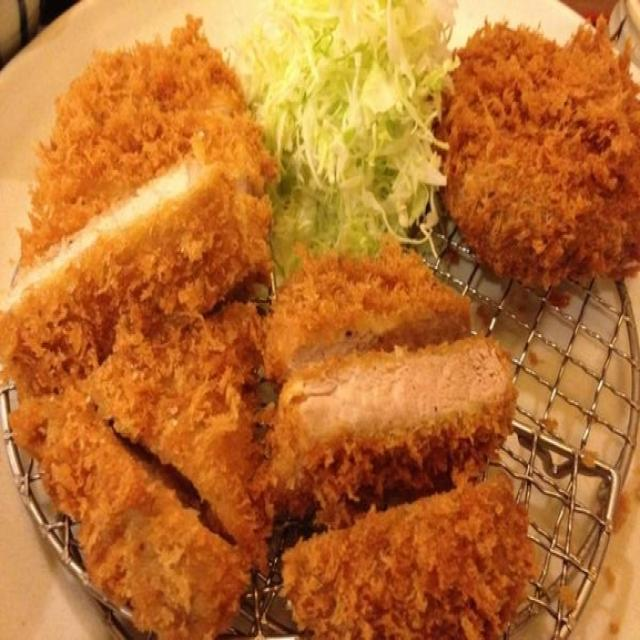炸货点心: (20, 28, 611, 611)
